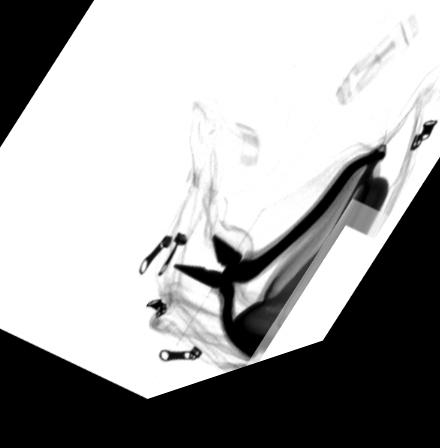Pliers: (169, 173, 387, 377)
